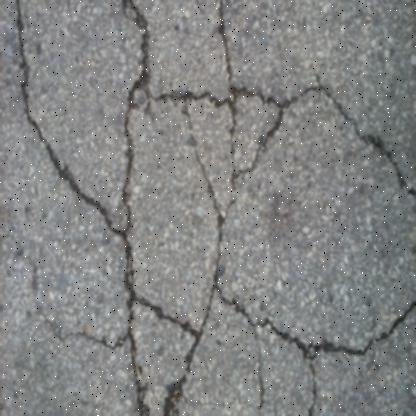Cracks: (12, 0, 243, 416), (230, 0, 415, 415)
